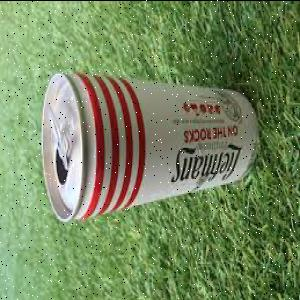Can: (41, 71, 260, 224)
